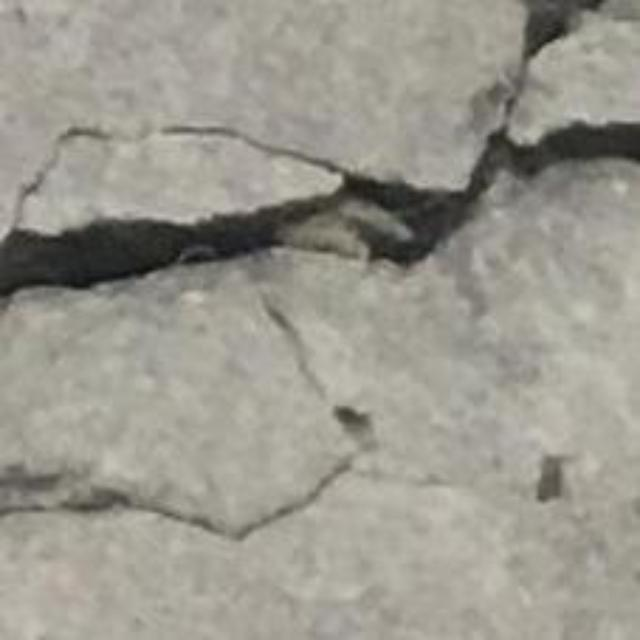crack: (0, 0, 639, 541)
